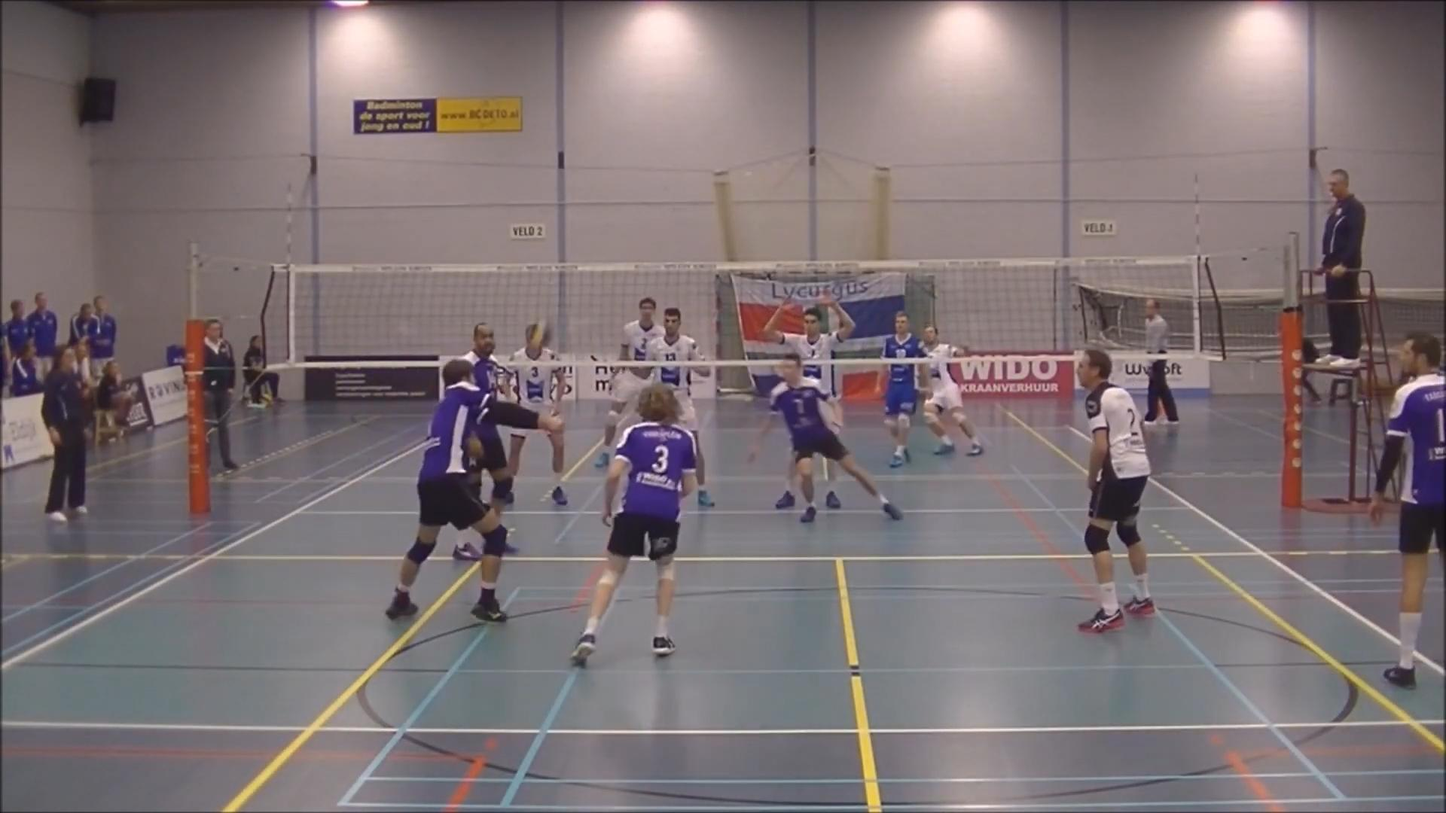ricezione: (387, 358, 563, 622)
